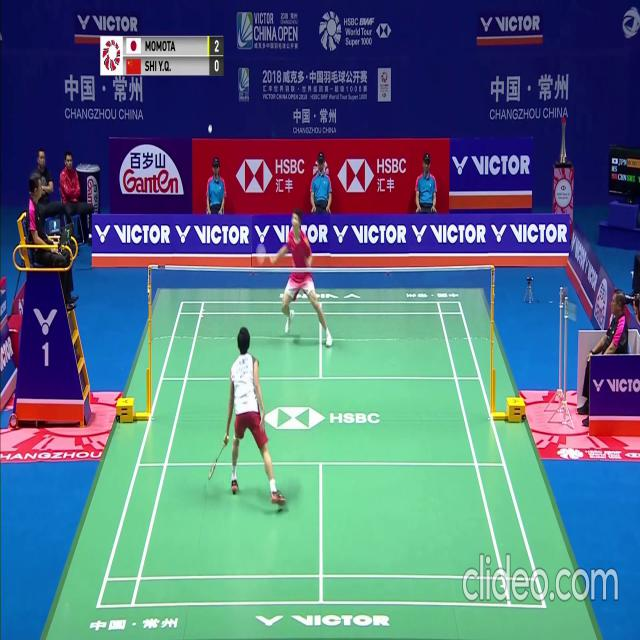Shuttlecock: (208, 122, 213, 130)
